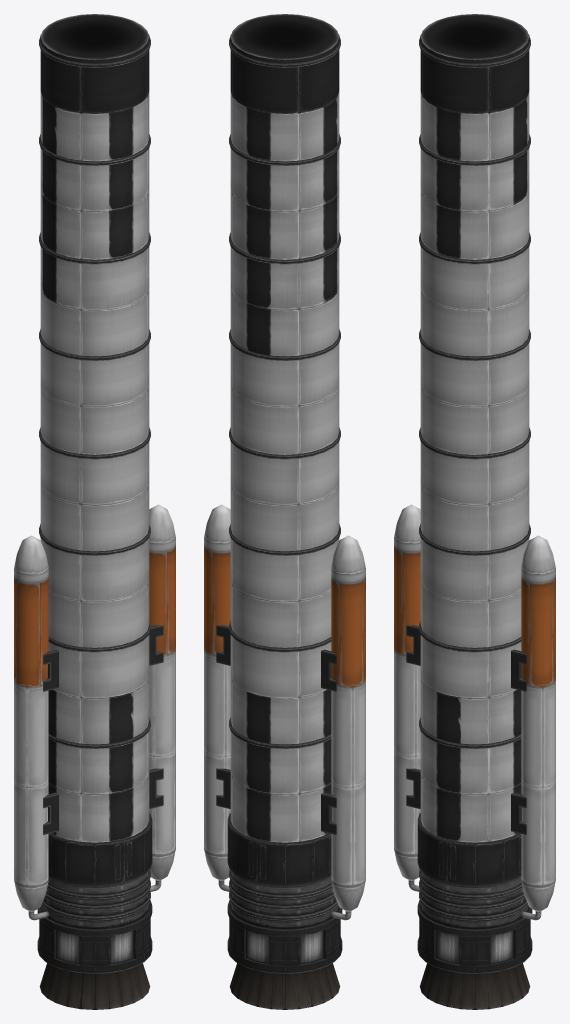
File: Titan_SRB_7segStack.dae
The picture shows the model from 3 angles, left to right: view 1: azimuth 30°, elevation 25°; view 2: azimuth 150°, elevation 25°; view 3: azimuth 330°, elevation 25°; orthographic projection.
Parts seen in each view (by area): view 1: SRB_7_Stick2; view 2: SRB_7_Stick2; view 3: SRB_7_Stick2.
Part boxes in pixels (bbox=[...]): SRB_7_Stick2: bbox=[14, 14, 175, 1009]; SRB_7_Stick2: bbox=[204, 14, 365, 1009]; SRB_7_Stick2: bbox=[394, 14, 555, 1009].
Size of the model in its own units: 3.13 by 18.09 by 1.98.
